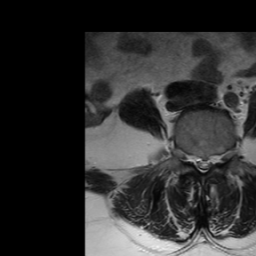CCS_severe_stenosis: (200, 151, 206, 177)
LFS_normal: (213, 147, 223, 169)
LLS_normal: (206, 149, 213, 175)
RFS_normal: (186, 145, 193, 169)
RLS_normal: (193, 149, 200, 174)
